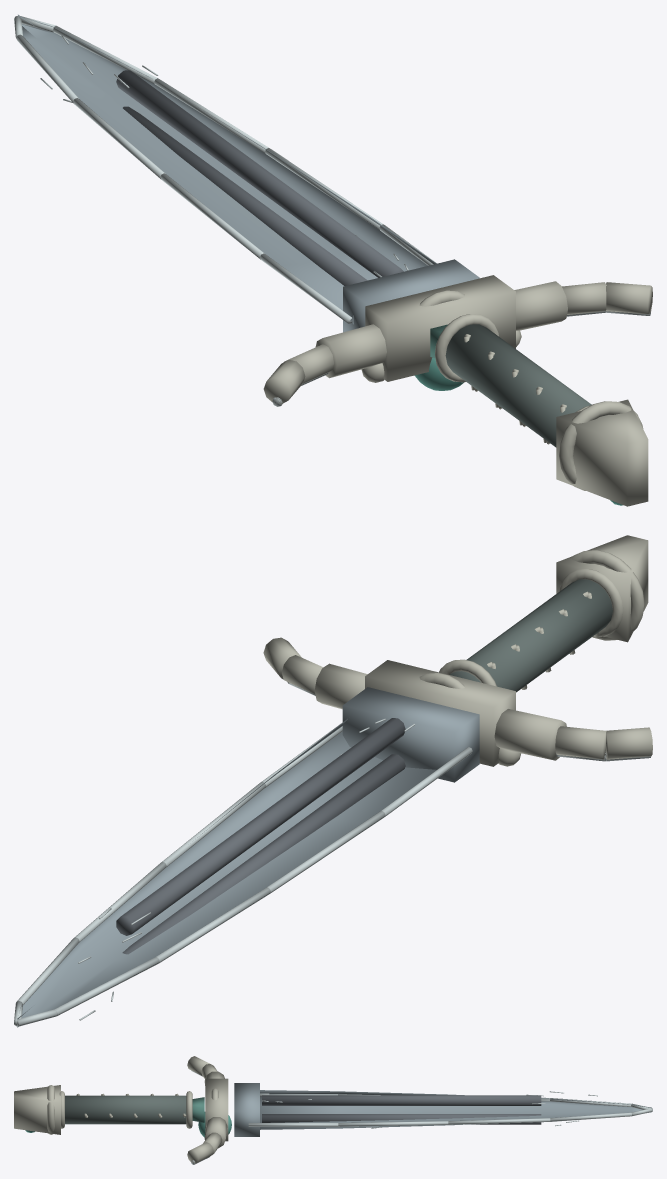
3 views of the same model, one above another, from view 1: azimuth 30°, elevation 25°; view 2: azimuth 150°, elevation 25°; view 3: azimuth 270°, elevation 25° (orthographic). The views are drawn at different scales.
Visible parts, largest first — view 1: gold, steel, black, edge, wrap, gem; view 2: steel, gold, black, edge, wrap; view 3: steel, gold, black, wrap, edge, inset, gem.
Boxes of the visible parts, x1=… form: gold: x1=263, y1=275, x2=652, y2=506; steel: x1=18, y1=14, x2=479, y2=332; black: x1=116, y1=70, x2=403, y2=285; edge: x1=14, y1=16, x2=650, y2=406; wrap: x1=445, y1=324, x2=591, y2=447; gem: x1=414, y1=357, x2=622, y2=505; steel: x1=17, y1=687, x2=479, y2=1027; gold: x1=263, y1=535, x2=652, y2=766; black: x1=116, y1=718, x2=405, y2=954; edge: x1=14, y1=682, x2=651, y2=1026; wrap: x1=450, y1=579, x2=612, y2=692; steel: x1=234, y1=1083, x2=651, y2=1136; gold: x1=14, y1=1056, x2=228, y2=1163; black: x1=262, y1=1095, x2=541, y2=1124; wrap: x1=65, y1=1095, x2=186, y2=1124; edge: x1=191, y1=1070, x2=652, y2=1164; inset: x1=192, y1=1097, x2=204, y2=1122; gem: x1=25, y1=1112, x2=231, y2=1137.
Bounding box in the file's own units: 2.61 × 0.6551 × 7.21.
